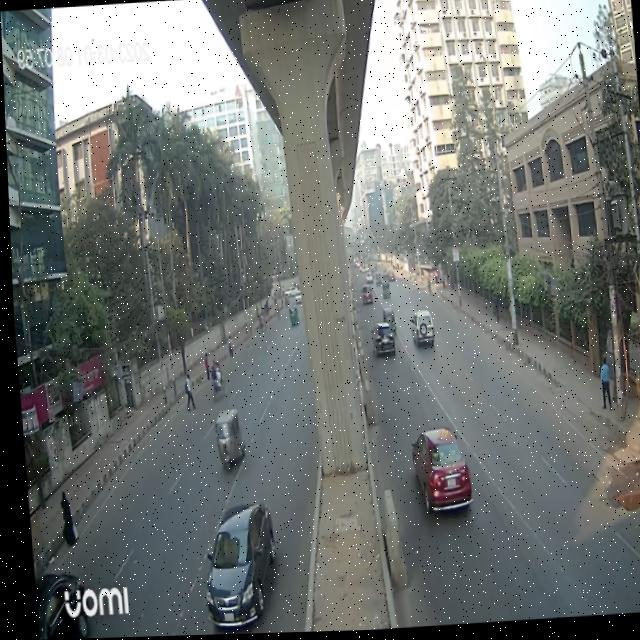cng: (207, 393, 241, 477), (283, 304, 299, 336), (378, 308, 393, 340)
